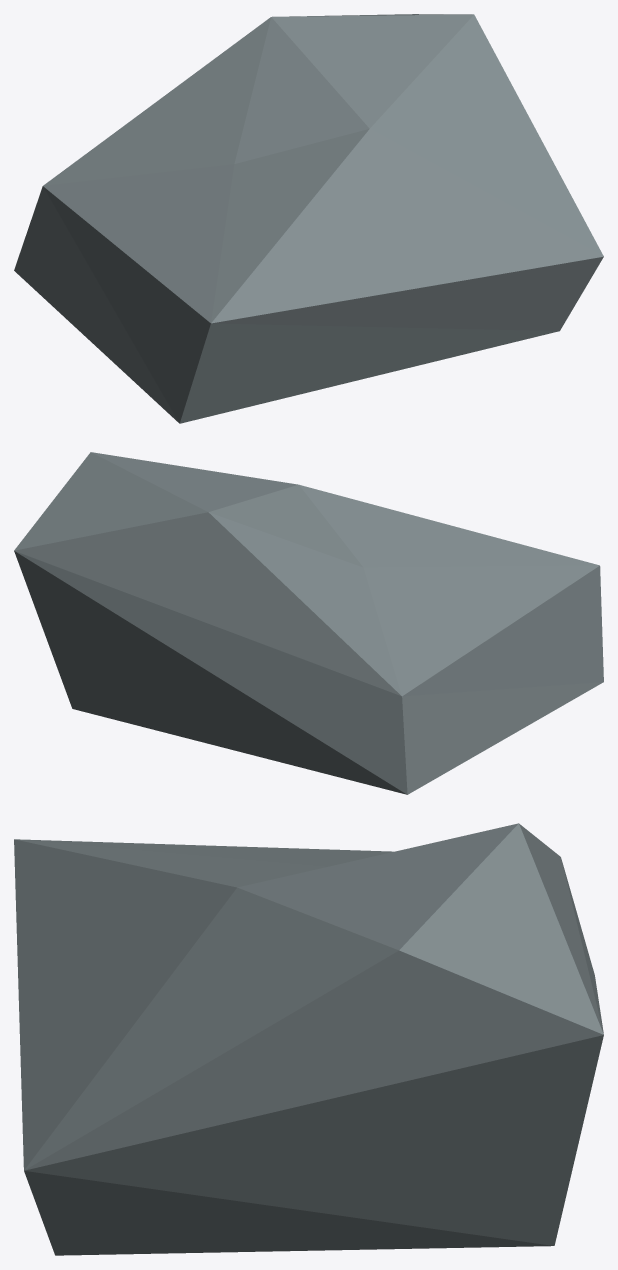
File: Rock_04.fbx
3 renders of one model, top to bottom at view 1: azimuth 30°, elevation 25°; view 2: azimuth 150°, elevation 25°; view 3: azimuth 270°, elevation 25°, orthographic. The views are drawn at different scales.
Parts seen in each view (by area): view 1: Rock_04; view 2: Rock_04; view 3: Rock_04.
Boxes of the visible parts, x1,y1,x2,y2 form: Rock_04: (14, 14, 603, 423); Rock_04: (14, 452, 603, 794); Rock_04: (14, 823, 603, 1255).
Bounding box in the file's own units: 0.4766 × 0.2492 × 0.3936.
